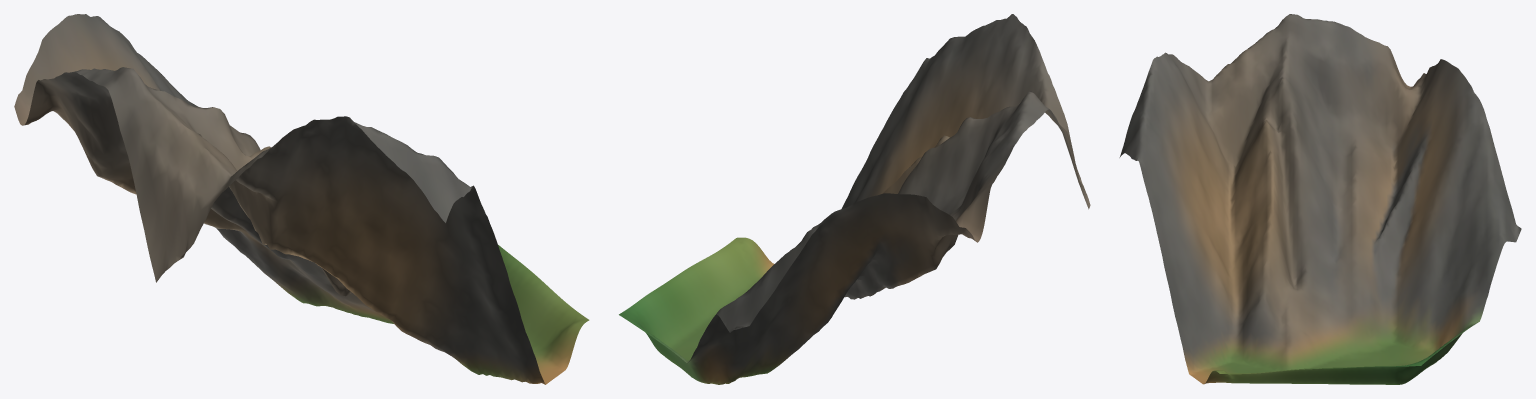
3 views of the same model, side by side, from view 1: azimuth 30°, elevation 25°; view 2: azimuth 150°, elevation 25°; view 3: azimuth 270°, elevation 25° (orthographic). The views are drawn at different scales.
Parts seen in each view (by area): view 1: terrain; view 2: terrain; view 3: terrain.
Part boxes in pixels (x1=…): terrain: x1=14, y1=14, x2=589, y2=384; terrain: x1=619, y1=14, x2=1090, y2=384; terrain: x1=1119, y1=14, x2=1521, y2=384.
Size of the model in its own units: 4330 by 3359 by 5000.
